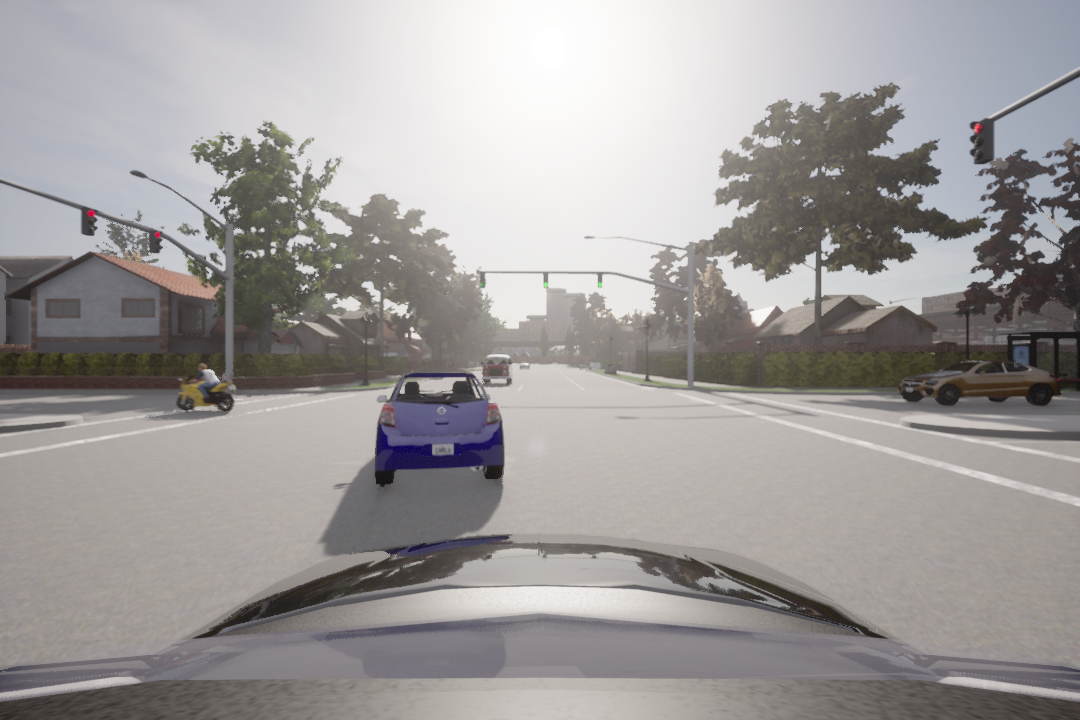TrafficLight: (969, 114, 996, 164), (79, 204, 97, 238), (147, 227, 162, 254), (596, 271, 604, 290), (542, 271, 550, 288), (479, 271, 486, 287)
